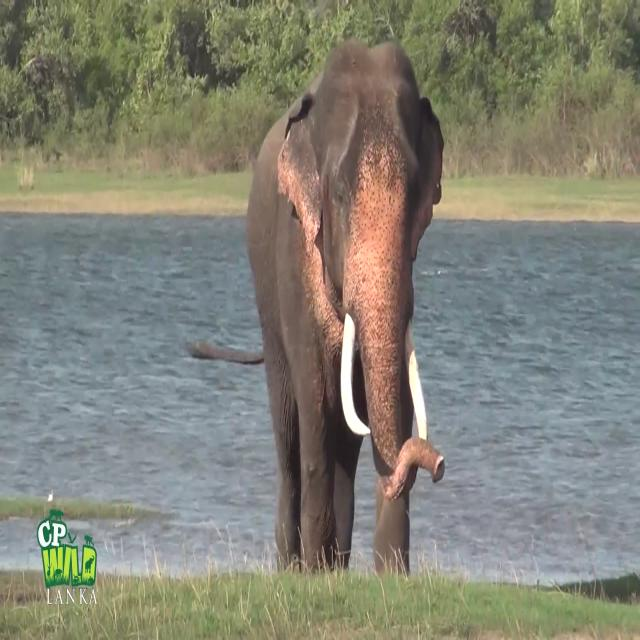Elephant: (187, 36, 445, 577)
